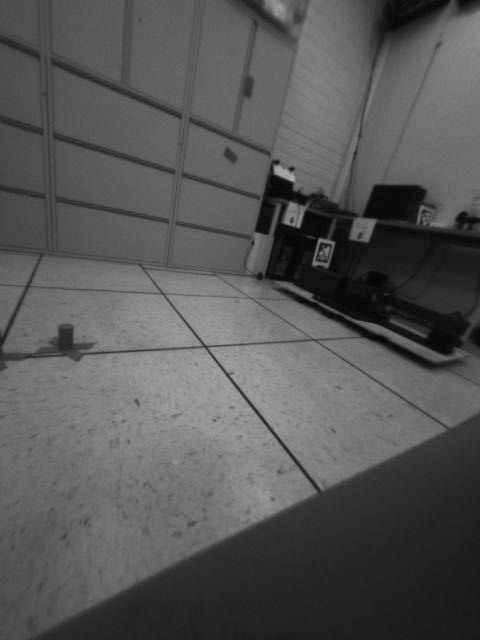X: (35, 320, 97, 362)
